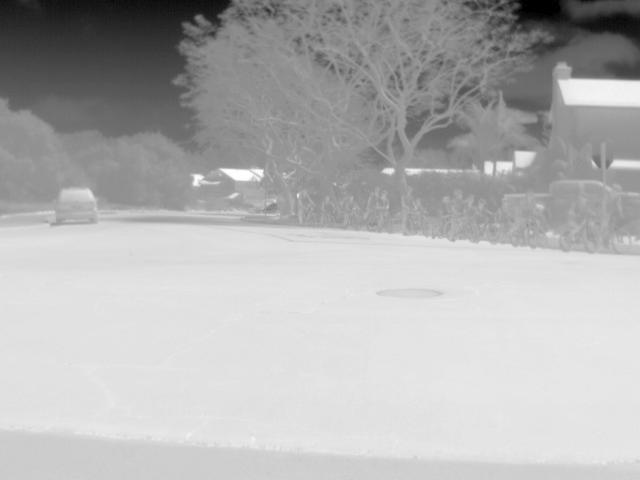car: (504, 178, 606, 230), (52, 184, 99, 224), (604, 184, 640, 214)
person: (562, 191, 599, 241), (511, 191, 543, 238), (604, 182, 626, 237), (450, 185, 468, 237), (401, 184, 418, 232), (297, 183, 315, 225), (362, 185, 381, 224), (498, 190, 516, 227), (375, 188, 391, 224), (320, 194, 337, 225), (436, 196, 453, 218), (413, 196, 431, 215), (479, 197, 496, 217), (344, 194, 360, 214), (463, 194, 479, 213)
